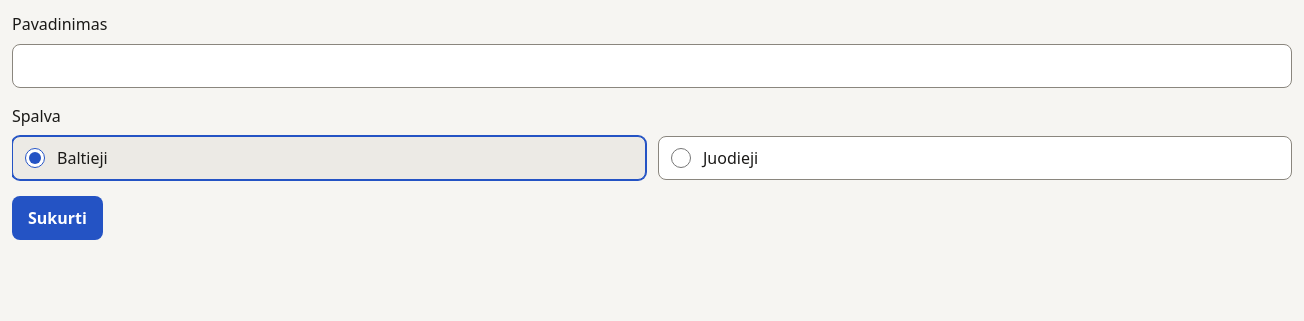
Test: CreateForm › says the repertoire limit with its number, without marking the name (R-162)
The image size is (1304, 321).
Click the button "Sukurti": (57, 218) [12,196,103,240]
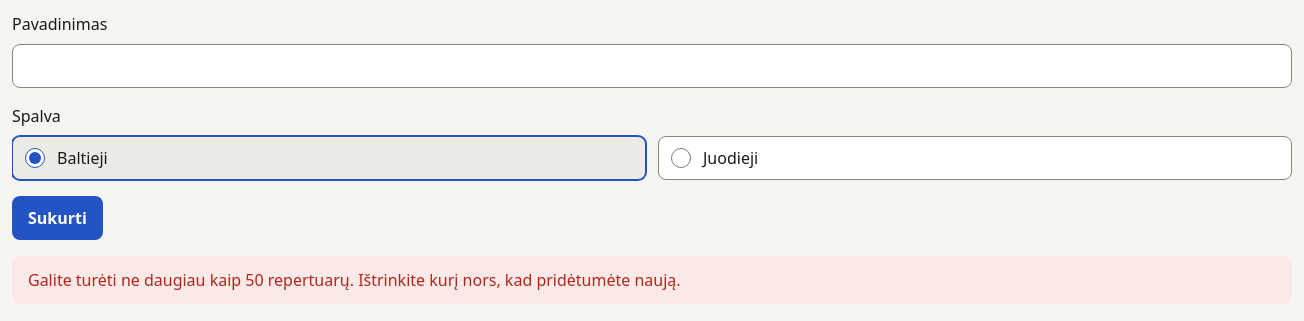
Expected: the text "Galite turėti ne daugiau kaip 50 repertuarų. Ištrinkite kurį nors, kad pridėtumėte naują." is shown, [28,269,681,291]
